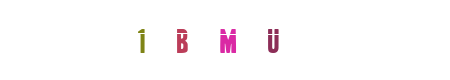1: (168, 0, 248, 80)
B: (169, 0, 249, 80)
M: (185, 0, 265, 80)
U: (188, 0, 268, 80)
